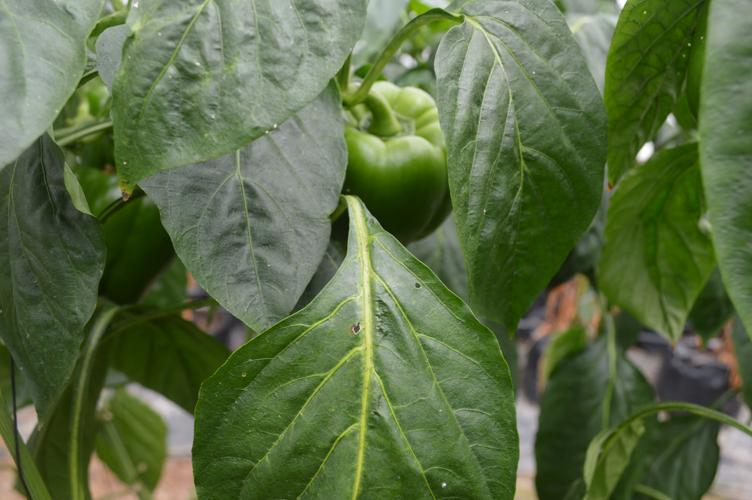BellPepper: (322, 80, 444, 237), (66, 170, 168, 299)
